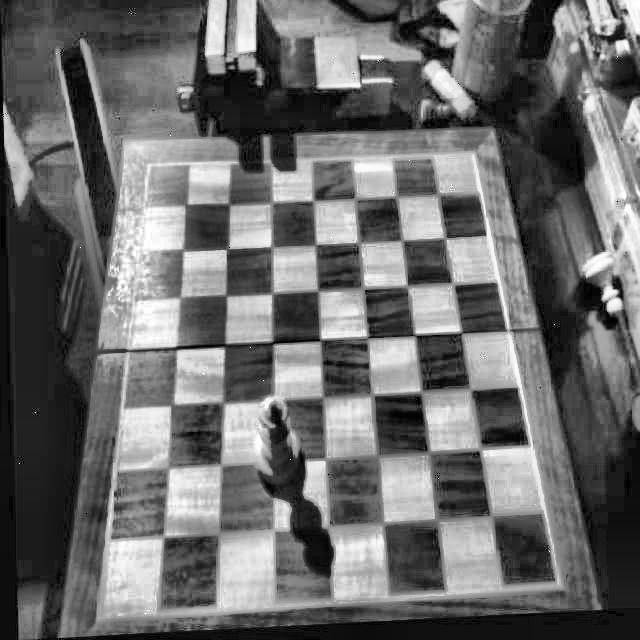white-queen: (248, 393, 300, 494)
